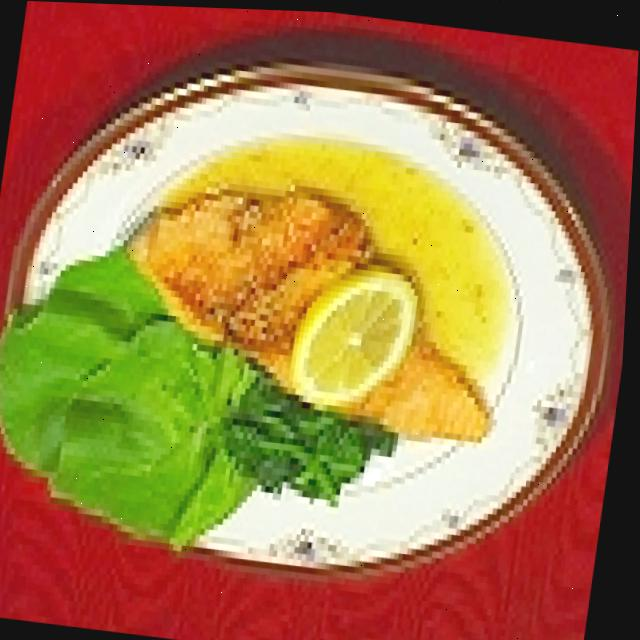熟制海鲜: (0, 83, 629, 570)
